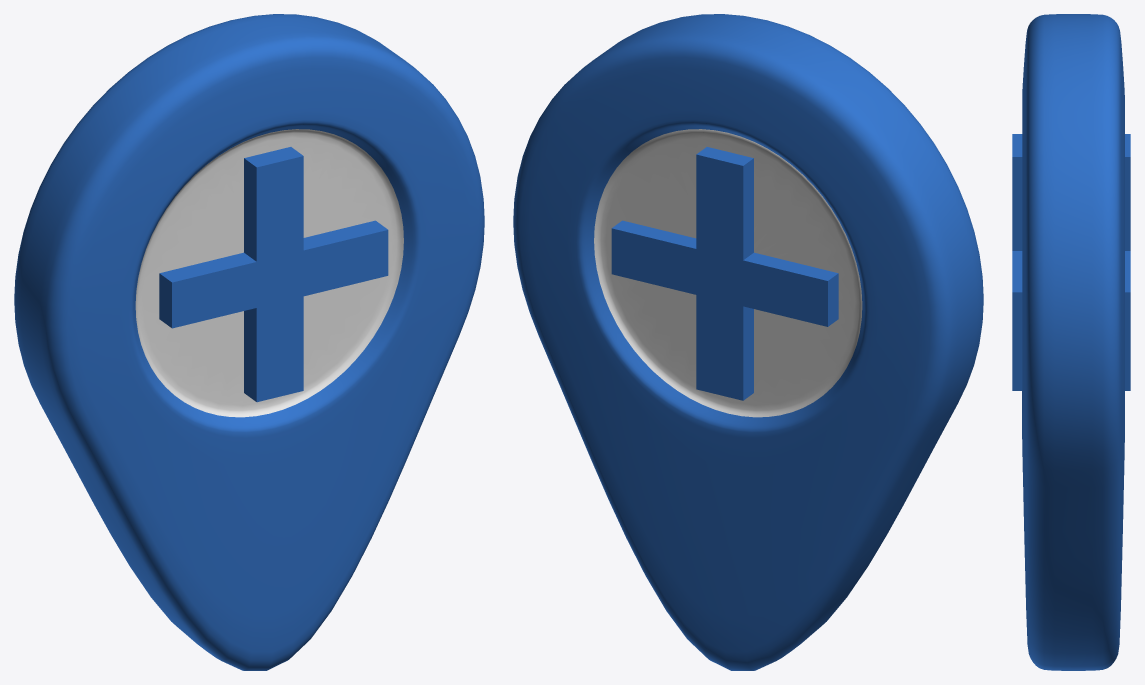
File: marker.glb
3 renders of one model, left to right at view 1: azimuth 30°, elevation 25°; view 2: azimuth 150°, elevation 25°; view 3: azimuth 270°, elevation 25°, orthographic.
Visible parts, largest first — view 1: Circle; view 2: Circle; view 3: Circle.
Part boxes in pixels (box(x1,y1,x2,y2)): Circle: box(14, 14, 484, 670); Circle: box(513, 14, 983, 670); Circle: box(1012, 14, 1130, 670).
Bounding box in the file's own units: 1.99 × 2.72 × 0.466.
